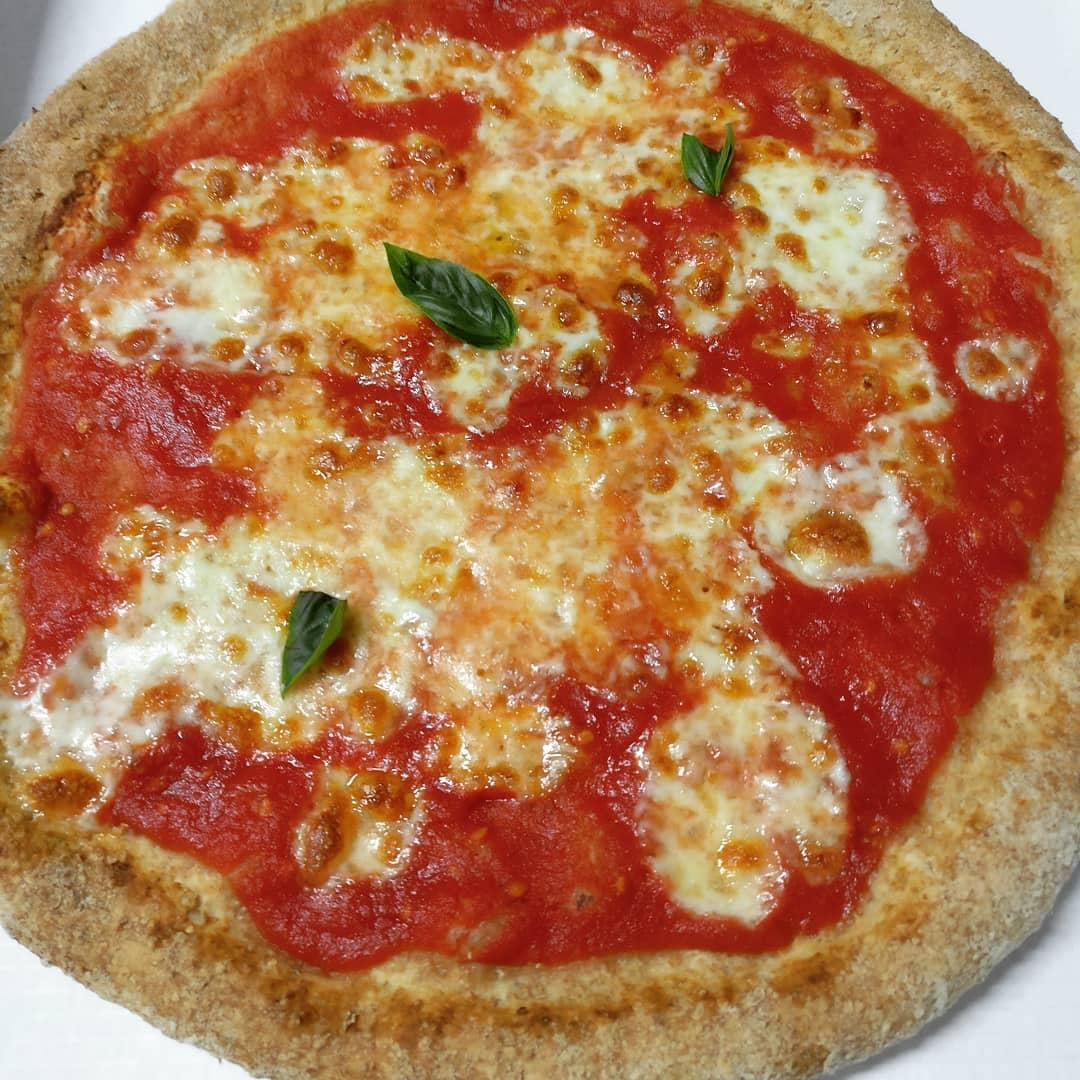Basil: (385, 243, 514, 353), (265, 585, 356, 689), (673, 129, 736, 193)
Pizza: (1, 0, 1080, 1080)
